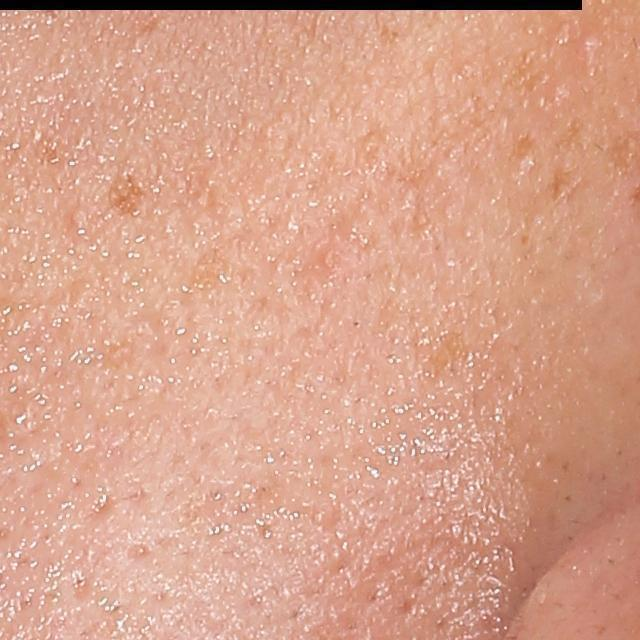comedo: (578, 33, 597, 56)
melasma: (168, 209, 304, 312), (370, 288, 492, 393), (449, 48, 549, 128), (104, 169, 154, 227)
